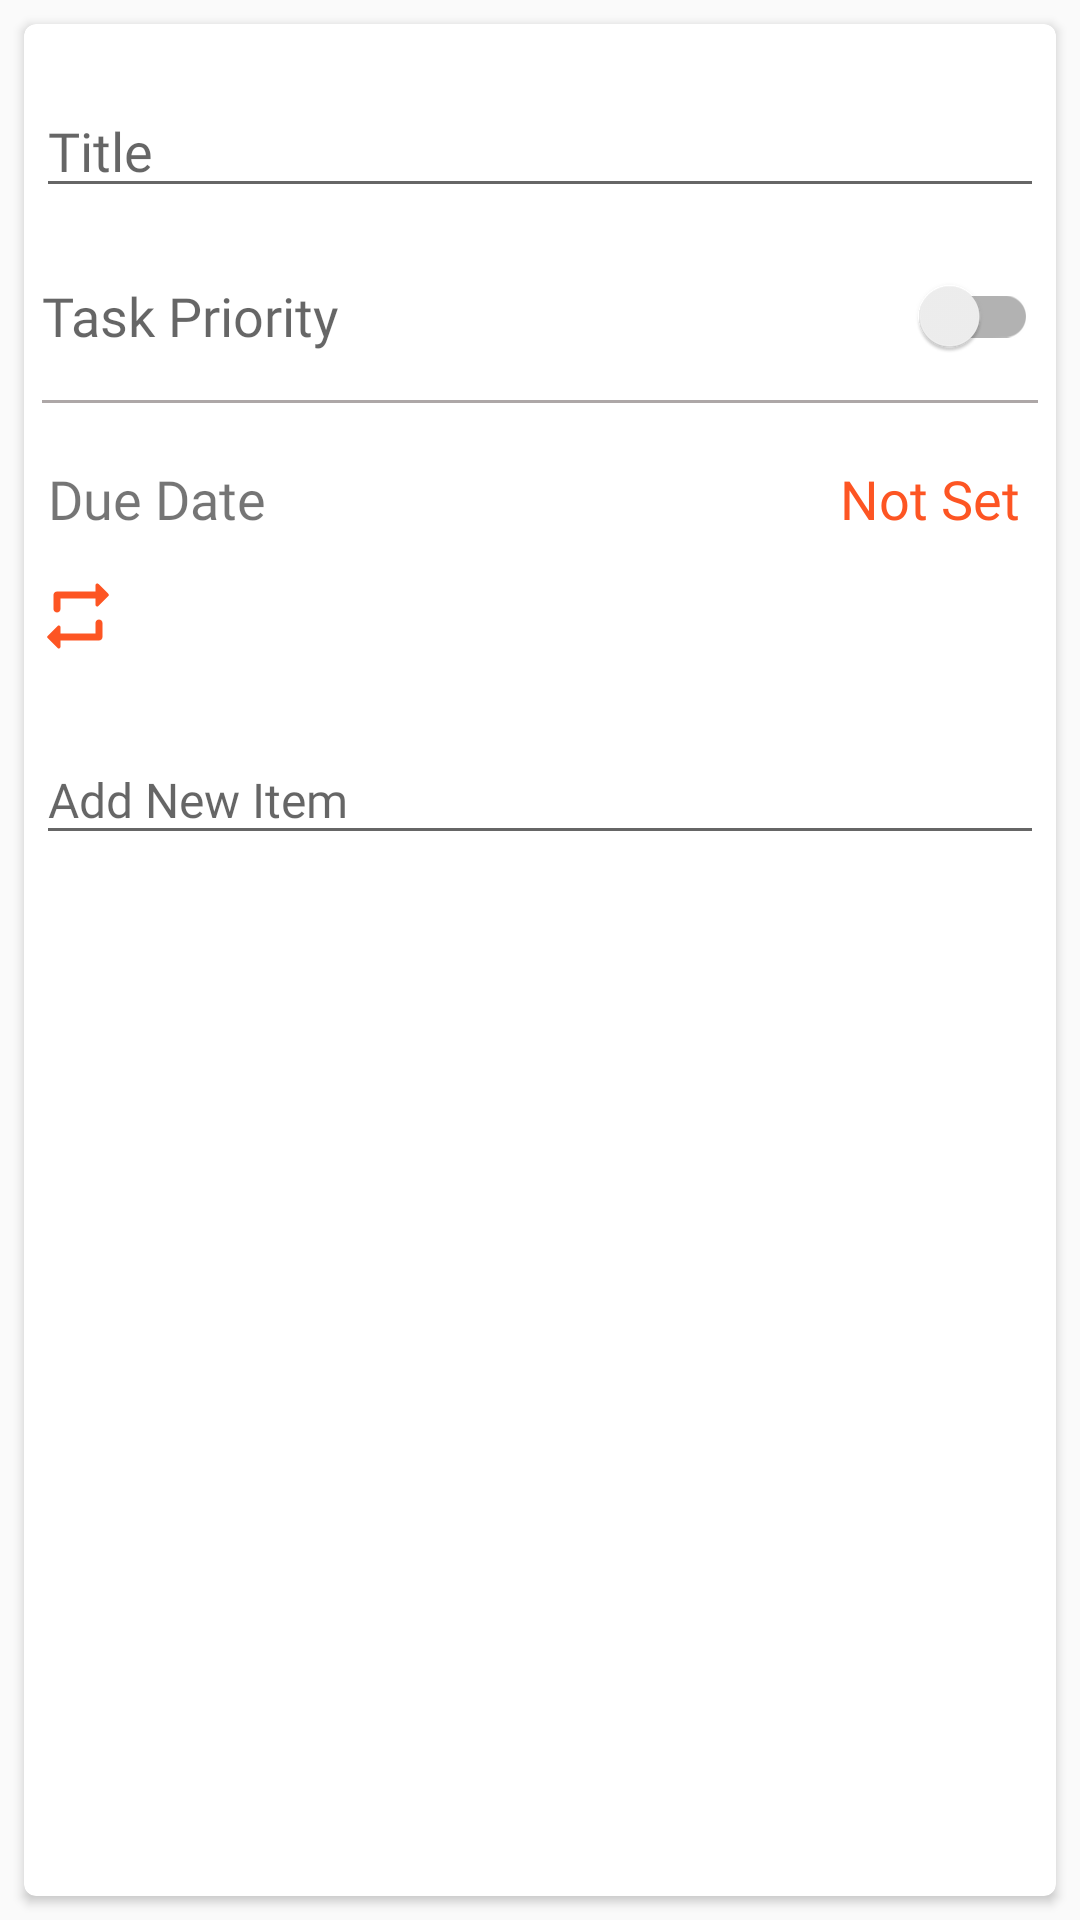

Icons on this 1080 x 1920 Android screen, each with its box as {"x1": x1, "y1": y1, "x2": x2, "y2": y2}:
repeat: {"x1": 47, "y1": 583, "x2": 109, "y2": 649}
